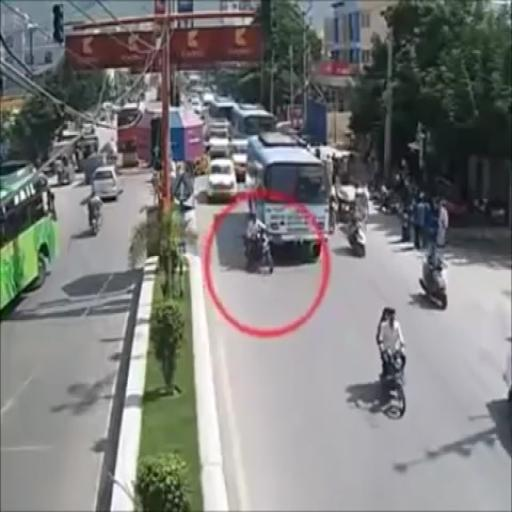小汽车: (249, 138, 329, 256), (210, 161, 237, 199), (91, 167, 119, 195)
自行车: (378, 302, 409, 410), (242, 217, 274, 274), (420, 250, 447, 308), (346, 206, 371, 256), (85, 191, 103, 233)
